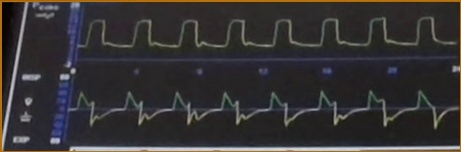Premature_cycling Flow: (72, 75, 458, 143)
